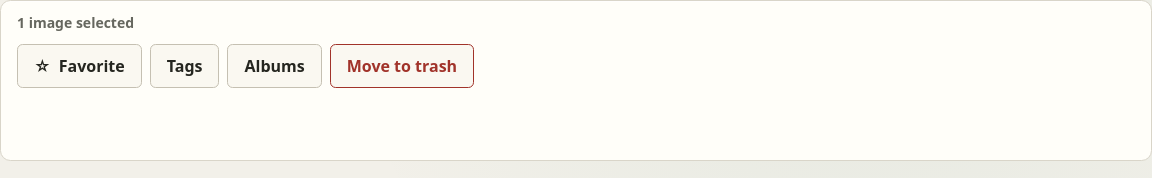
Scenario: curation actions › reloads a stale version once and applies the change to it
The image size is (1152, 178).
Click the button "☆ Favorite": click(79, 66) [17,44,142,88]
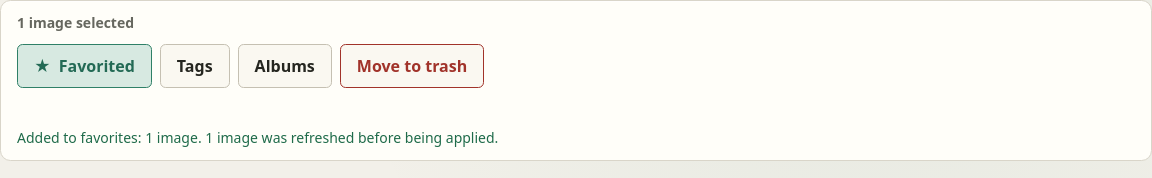
Now the message named "Curation result" reads "Added to favorites: 1 image. 1 image was refreshed before being applied.", box [17,128,498,147]
